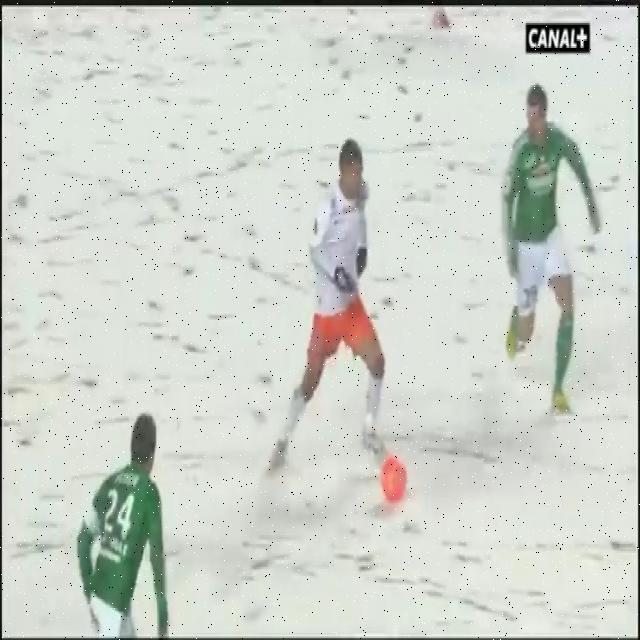ball: (365, 443, 419, 515)
player: (494, 72, 612, 437), (61, 374, 211, 640), (287, 110, 391, 480)
